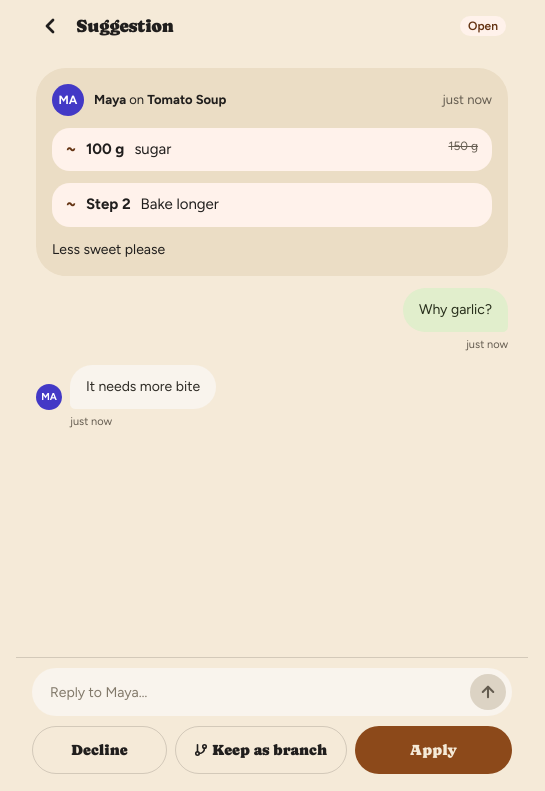
SuggestionThreadPage › owner actions › a failed Apply shows the apply error and stays
Click the button with aria-label "Apply, suggestion" at (433, 750), box [354,726,512,774]
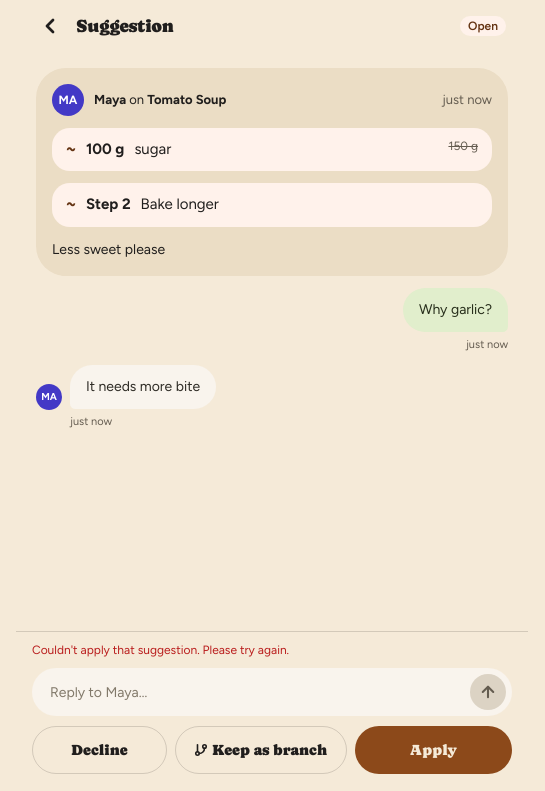
Result: the message "Couldn't apply that suggestion. Please try again." is shown at [32,643,289,657]
